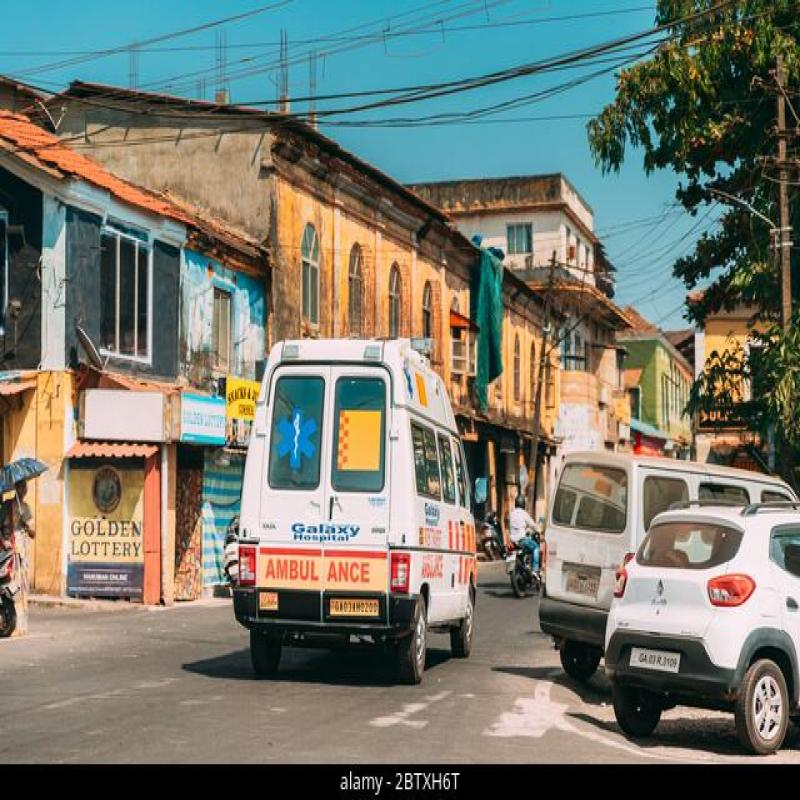ambulance: (221, 310, 503, 648)
